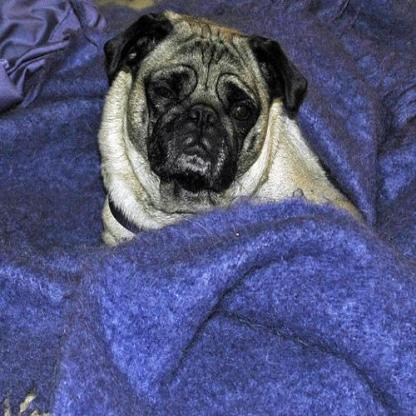pug: (92, 8, 371, 242)
